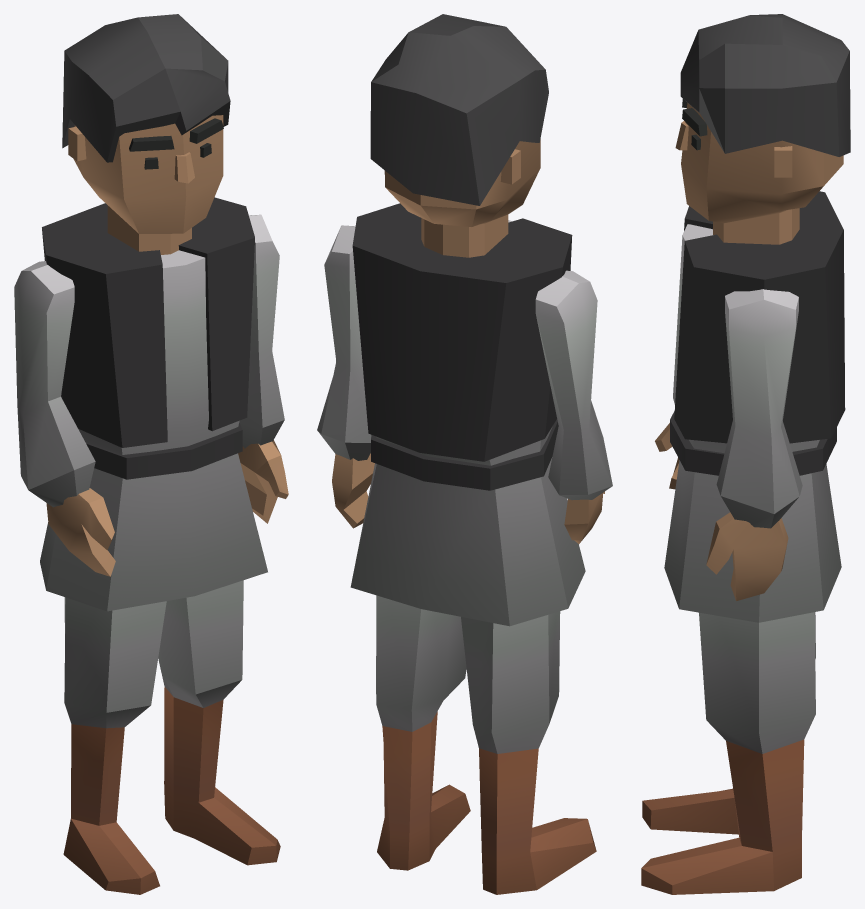
File: PeasantMale_2.fbx
The picture shows the model from 3 angles, left to right: view 1: azimuth 30°, elevation 25°; view 2: azimuth 150°, elevation 25°; view 3: azimuth 270°, elevation 25°; orthographic projection. The views are drawn at different scales.
Parts seen in each view (by area): view 1: PeasantMale_2; view 2: PeasantMale_2; view 3: PeasantMale_2.
Boxes of the visible parts, x1,y1,x2,y2 form: PeasantMale_2: [14, 14, 288, 894]; PeasantMale_2: [317, 14, 612, 894]; PeasantMale_2: [641, 14, 850, 894].
Bounding box in the file's own units: 36.28 × 106 × 24.
